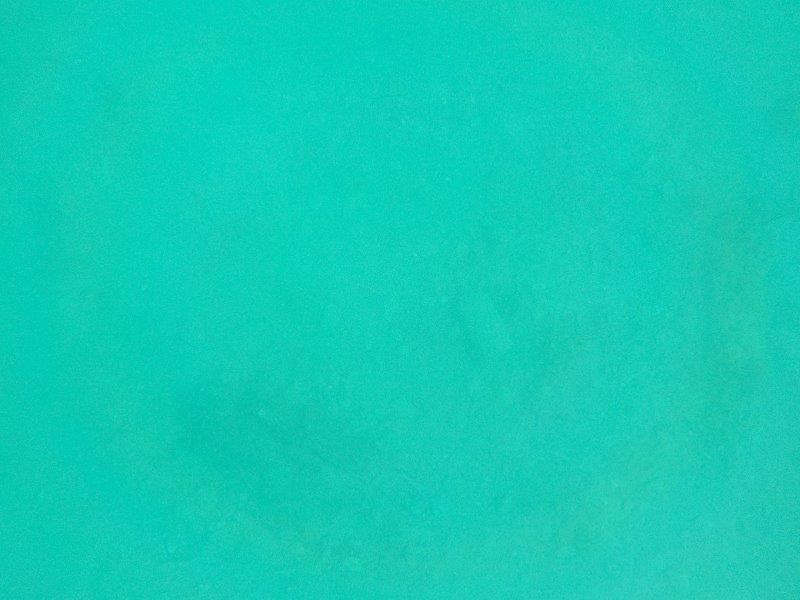bottle: (434, 254, 522, 371)
